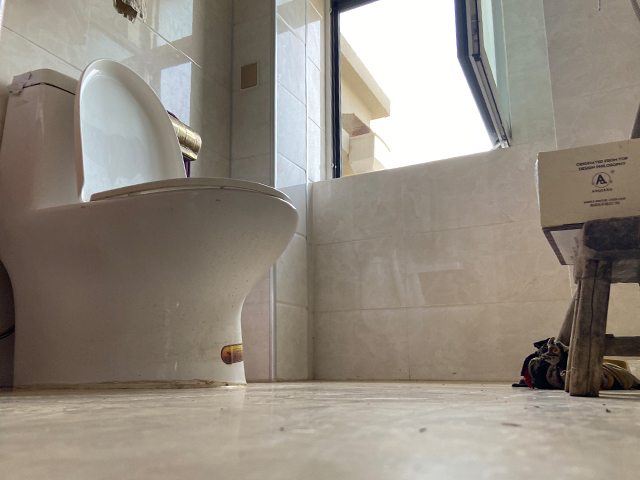closestool: (1, 57, 299, 393)
stool: (562, 216, 640, 402)
